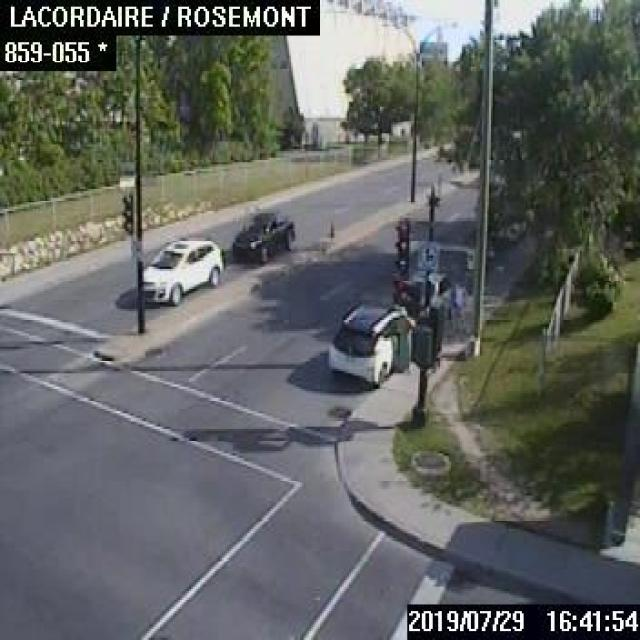vehicle: (326, 303, 413, 385), (142, 238, 222, 304), (230, 210, 292, 260), (402, 273, 454, 319)
